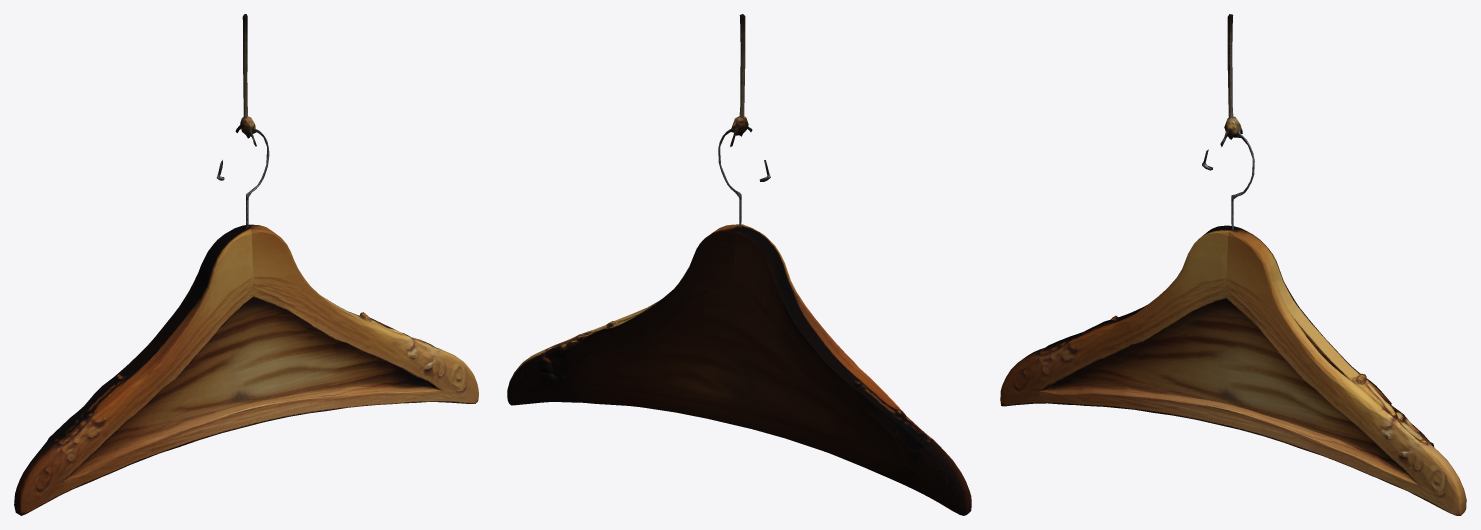
File: wooden-hanger-rustic.jpeg.glb
The picture shows the model from 3 angles, left to right: view 1: azimuth 30°, elevation 25°; view 2: azimuth 150°, elevation 25°; view 3: azimuth 330°, elevation 25°; orthographic projection.
Parts seen in each view (by area): view 1: world; view 2: world; view 3: world.
Boxes of the visible parts, x1,y1,x2,y2 form: world: (14,14,478,515); world: (507,14,971,515); world: (1000,14,1466,515).
Bounding box in the file's own units: 1 × 0.9256 × 0.078.
1 material, 1 textured.
